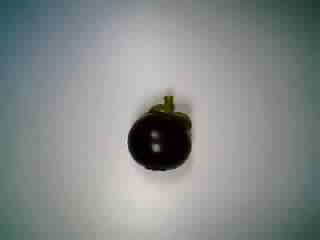mangosteen: (121, 89, 202, 174)
